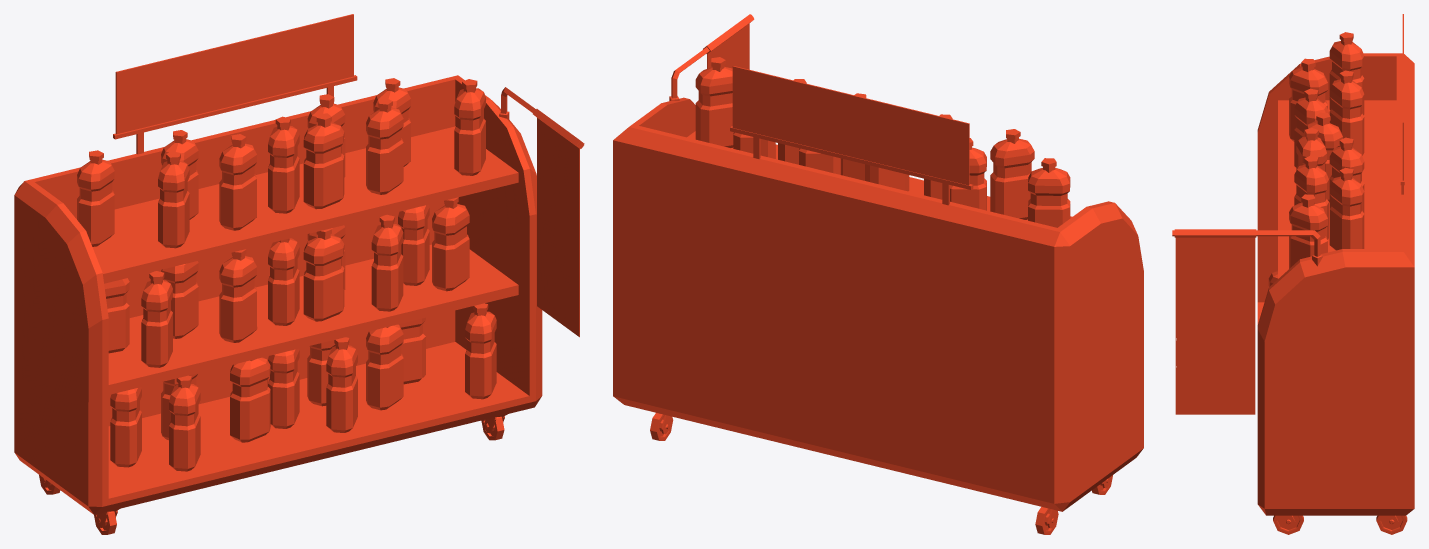
Rendered from SM_Shelf_C_City.fbx.
The picture shows the model from 3 angles, left to right: view 1: azimuth 30°, elevation 25°; view 2: azimuth 150°, elevation 25°; view 3: azimuth 270°, elevation 25°; orthographic projection. The views are drawn at different scales.
Visible parts, largest first — view 1: SM_Shelf_C_City; view 2: SM_Shelf_C_City; view 3: SM_Shelf_C_City.
Boxes of the visible parts, left/top/right/bottom form: SM_Shelf_C_City: left=14, top=14, right=584, bottom=534; SM_Shelf_C_City: left=613, top=14, right=1143, bottom=534; SM_Shelf_C_City: left=1172, top=14, right=1414, bottom=534.
Size of the model in its own units: 1.57 by 1.32 by 0.7734.
